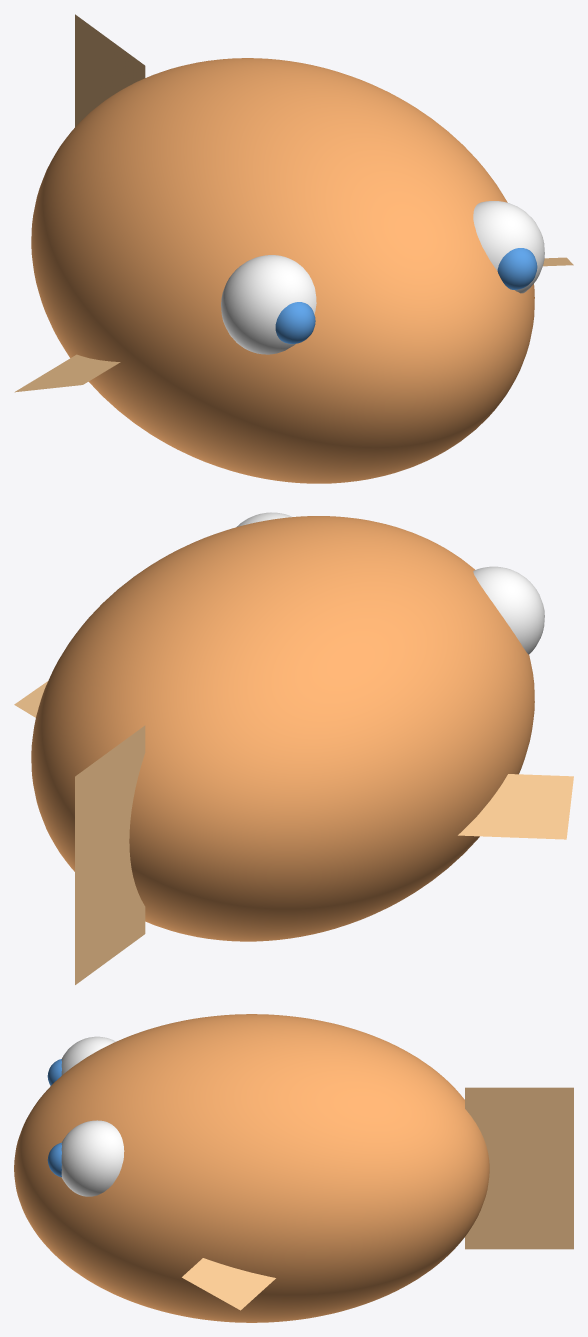
The model's file is fish_starter.glb.
3 renders of one model, top to bottom at view 1: azimuth 30°, elevation 25°; view 2: azimuth 150°, elevation 25°; view 3: azimuth 270°, elevation 25°, orthographic. The views are drawn at different scales.
Visible parts, largest first — view 1: Head, EyeR, Tail, EyeL, FinL, EyeRIris, EyeLIris; view 2: Head, Tail, FinL, EyeR; view 3: Head, Tail, EyeL, FinR, EyeR.
Boxes of the visible parts, box(x1,y1,x2,y2) form: Head: box(31, 58, 534, 483); EyeR: box(221, 255, 316, 354); Tail: box(75, 14, 145, 126); EyeL: box(473, 201, 544, 293); FinL: box(14, 354, 120, 392); EyeRIris: box(275, 302, 315, 343); EyeLIris: box(497, 248, 537, 289); Head: box(31, 516, 534, 941); Tail: box(75, 725, 145, 984); FinL: box(458, 774, 573, 839); EyeR: box(473, 566, 544, 654); Head: box(14, 1014, 489, 1322); Tail: box(465, 1087, 573, 1249); EyeL: box(61, 1120, 124, 1196); FinR: box(182, 1258, 275, 1310); EyeR: box(61, 1036, 115, 1075).
Bounding box in the file's own units: 2.49 × 1.5 × 2.82.
